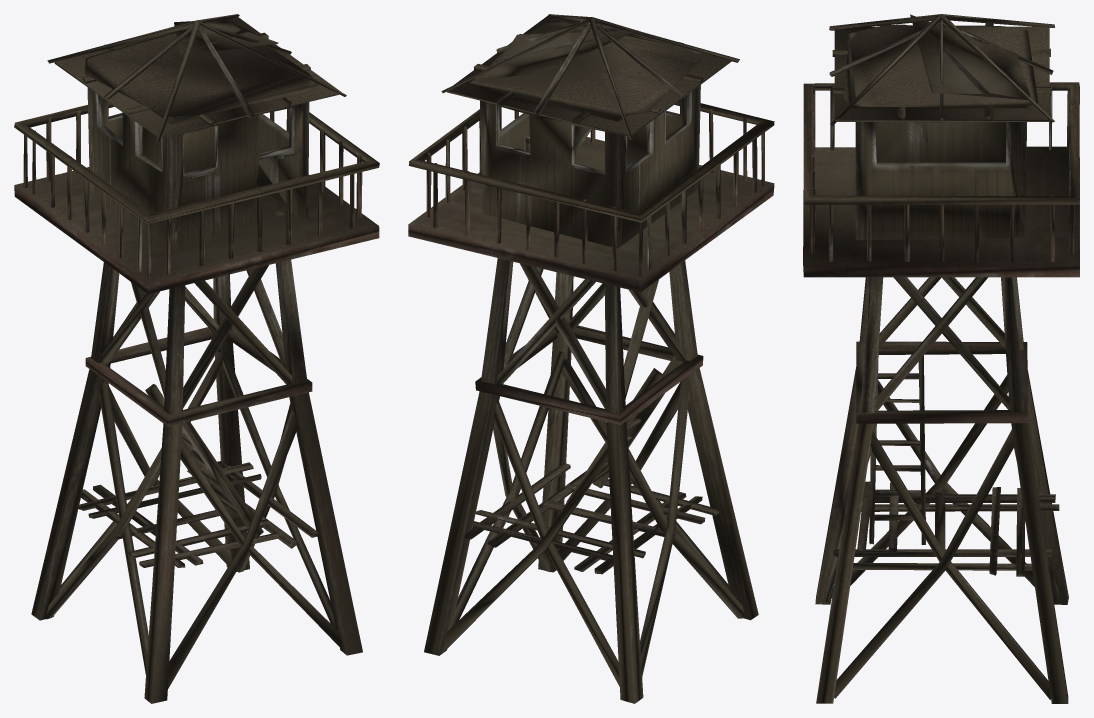
The model's file is Meshy_AI_Weathered_Watchtower_0831103956_texture.fbx.
The picture shows the model from 3 angles, left to right: view 1: azimuth 30°, elevation 25°; view 2: azimuth 150°, elevation 25°; view 3: azimuth 270°, elevation 25°; orthographic projection. The views are drawn at different scales.
Parts seen in each view (by area): view 1: mesh_node; view 2: mesh_node; view 3: mesh_node.
Part boxes in pixels (x1,y1,x2,y2): mesh_node: [14, 14, 379, 703]; mesh_node: [408, 14, 774, 703]; mesh_node: [803, 14, 1079, 703].
Size of the model in its own units: 39.75 by 100 by 39.45.
1 material, 1 textured.
